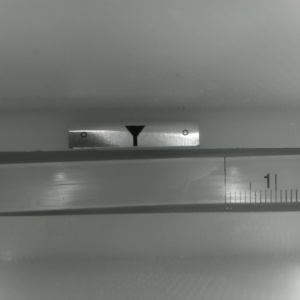1: (263, 173, 270, 188)
finger: (124, 126, 145, 144)
